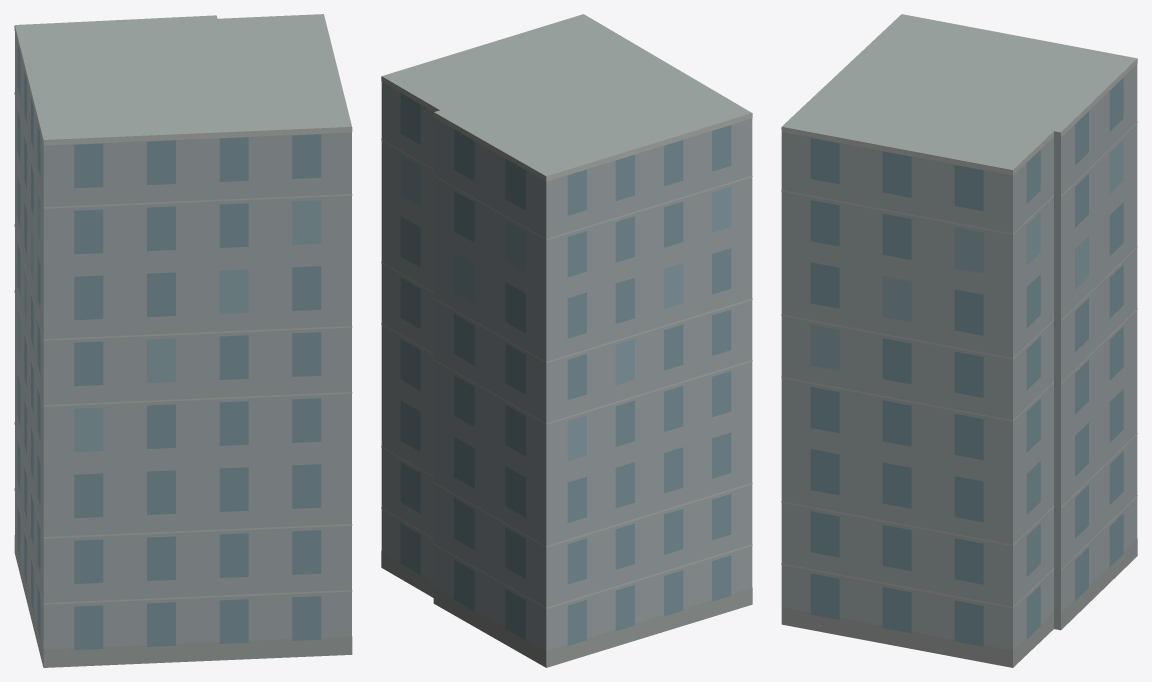
The model's file is survey-upis-32528997.glb.
3 views of the same model, side by side, from view 1: azimuth 30°, elevation 25°; view 2: azimuth 150°, elevation 25°; view 3: azimuth 270°, elevation 25° (orthographic). The views are drawn at different scales.
Parts seen in each view (by area): view 1: survey-upis-32528997.tmp; view 2: survey-upis-32528997.tmp; view 3: survey-upis-32528997.tmp.
Part boxes in pixels (<box>): survey-upis-32528997.tmp: <box>14,14,352,667</box>; survey-upis-32528997.tmp: <box>381,14,752,667</box>; survey-upis-32528997.tmp: <box>781,14,1137,667</box>.
Size of the model in its own units: 15.41 by 22.87 by 14.84.
